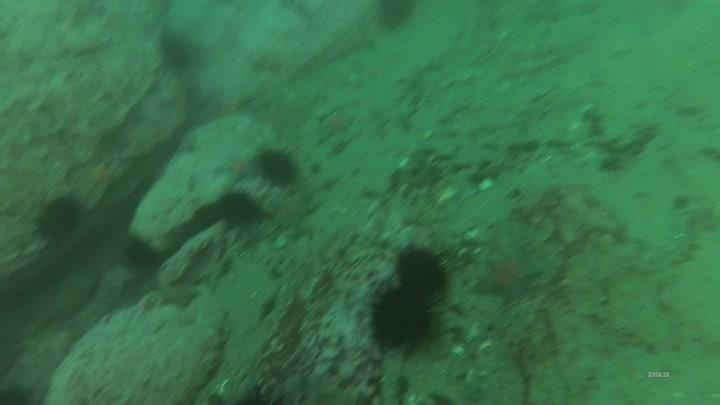echinus: (367, 284, 439, 352), (392, 244, 452, 298), (34, 194, 84, 243), (215, 188, 264, 229), (257, 147, 302, 188), (157, 29, 199, 72), (371, 1, 419, 33), (121, 236, 161, 274)
holothurian: (560, 250, 611, 320)
starfish: (472, 248, 544, 304), (269, 190, 318, 233), (77, 157, 122, 196), (215, 148, 260, 186), (157, 277, 202, 312), (318, 107, 356, 139)
